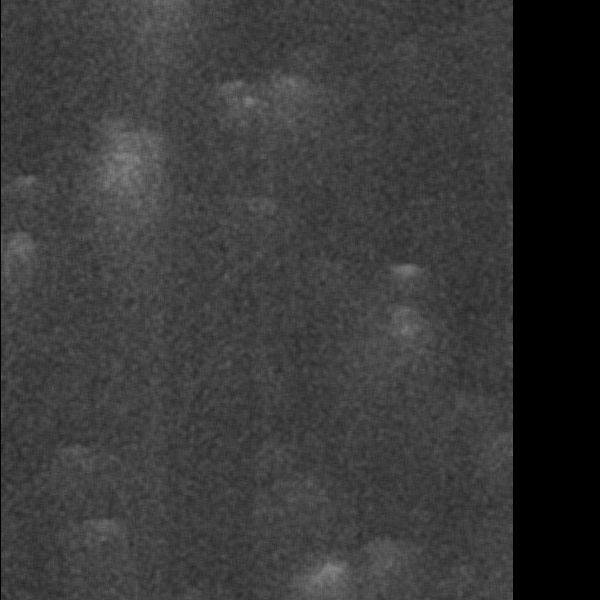spark: (443, 441, 510, 524), (109, 95, 167, 130), (209, 64, 258, 96), (145, 154, 186, 190)
